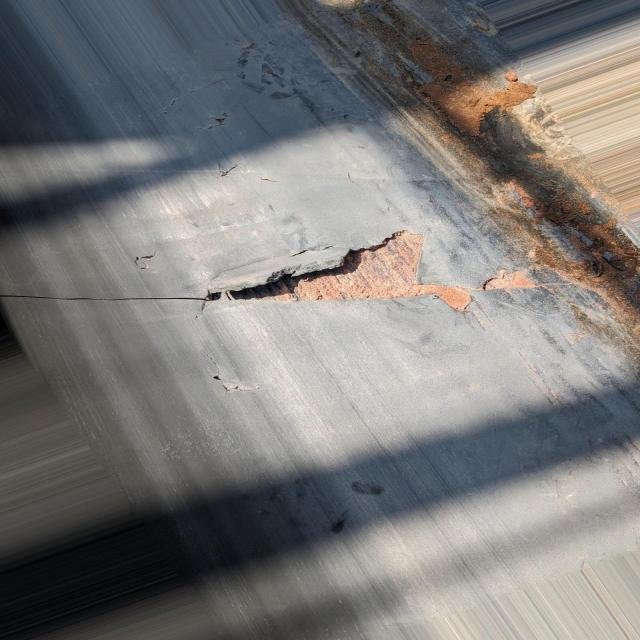Tear: (2, 222, 557, 323), (204, 353, 264, 398), (213, 155, 251, 178), (209, 114, 233, 129)
